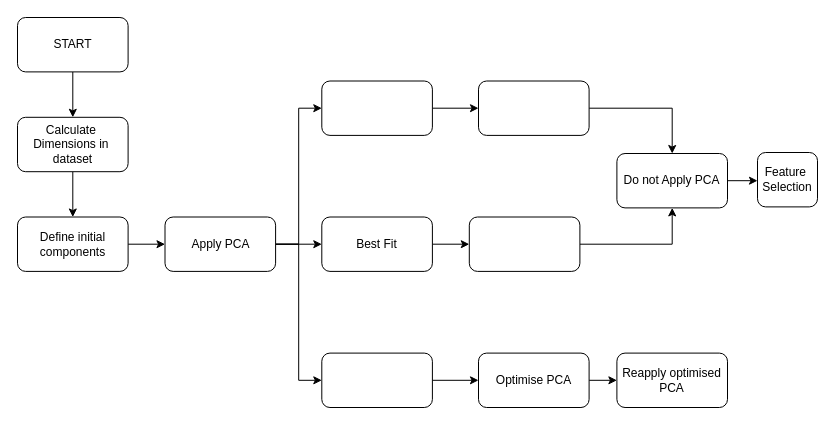
The diagram is 835 pixels wide and 425 high, and some of its shapes have lost their labels. The box of each missing label's shape, as (x1, y1, x2, y2) in pixels:
Average Fit: (321, 352, 432, 408)
Overfitting: (468, 216, 580, 271)
Underfitting: (478, 80, 589, 135)
Worst Fit: (321, 80, 432, 135)
